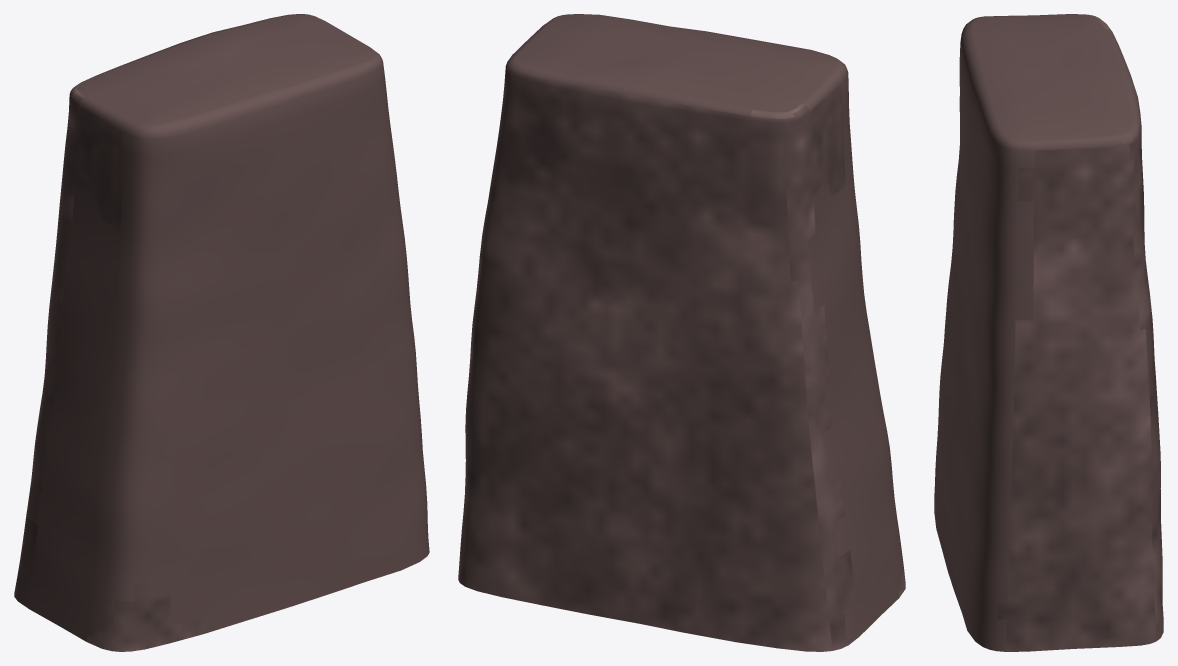
Rendered from TarHenge13.glb.
The picture shows the model from 3 angles, left to right: view 1: azimuth 30°, elevation 25°; view 2: azimuth 150°, elevation 25°; view 3: azimuth 270°, elevation 25°; orthographic projection. The views are drawn at different scales.
Visible parts, largest first — view 1: TarHenge13; view 2: TarHenge13; view 3: TarHenge13.
Boxes of the visible parts, x1,y1,x2,y2 form: TarHenge13: (14, 14, 429, 651); TarHenge13: (458, 14, 905, 651); TarHenge13: (934, 14, 1163, 651).
Size of the model in its own units: 2.28 by 3.03 by 1.27.
2 materials, 1 textured.
